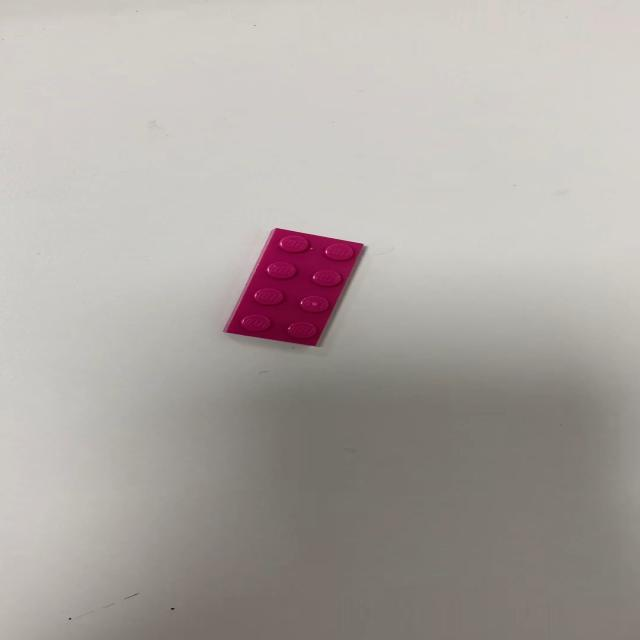C4x2x0: (221, 227, 365, 347)
